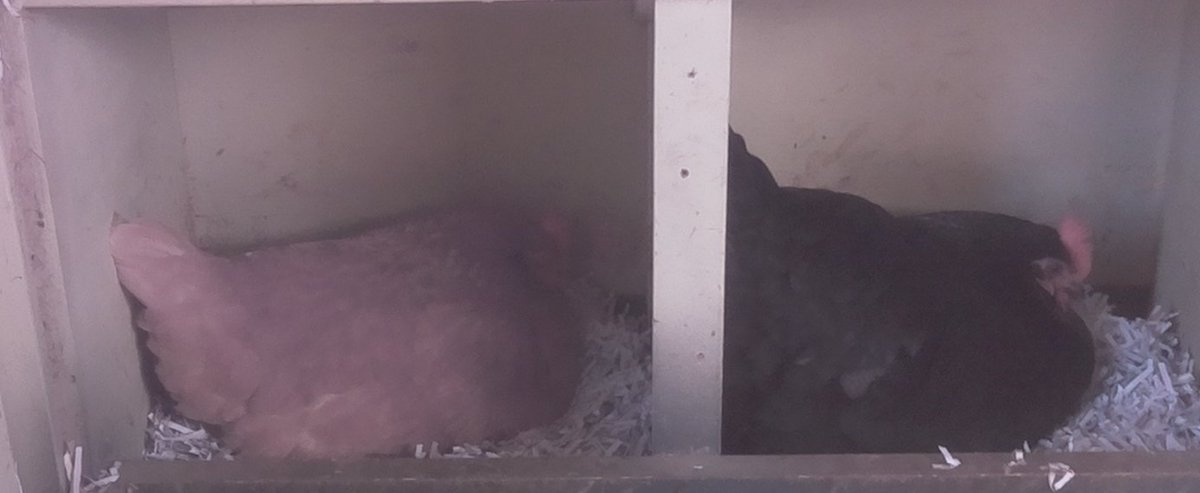hen: (105, 209, 605, 454), (730, 131, 1098, 445)
